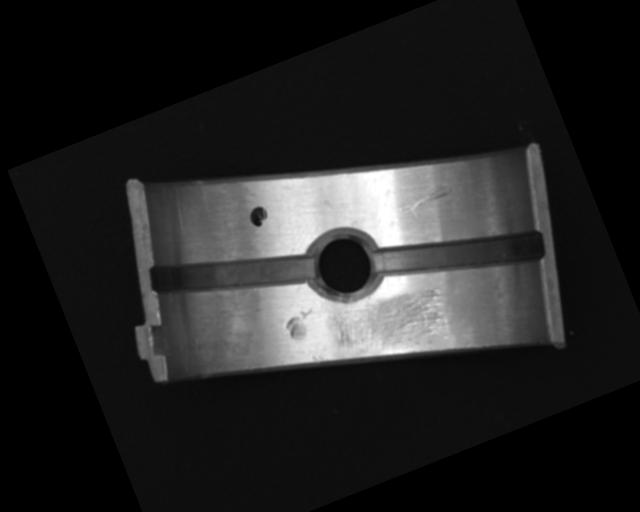blot: (246, 203, 271, 229)
bruise: (281, 305, 323, 344), (310, 350, 328, 368)
gap: (145, 210, 318, 336), (371, 194, 546, 316)
hole: (297, 216, 392, 314)
nick: (396, 181, 454, 217)
scratch: (319, 270, 460, 380)
